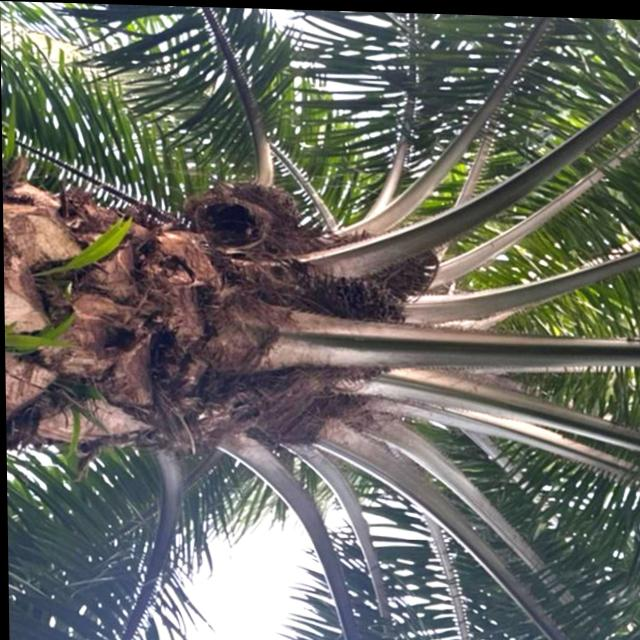almost: (288, 271, 409, 382)
